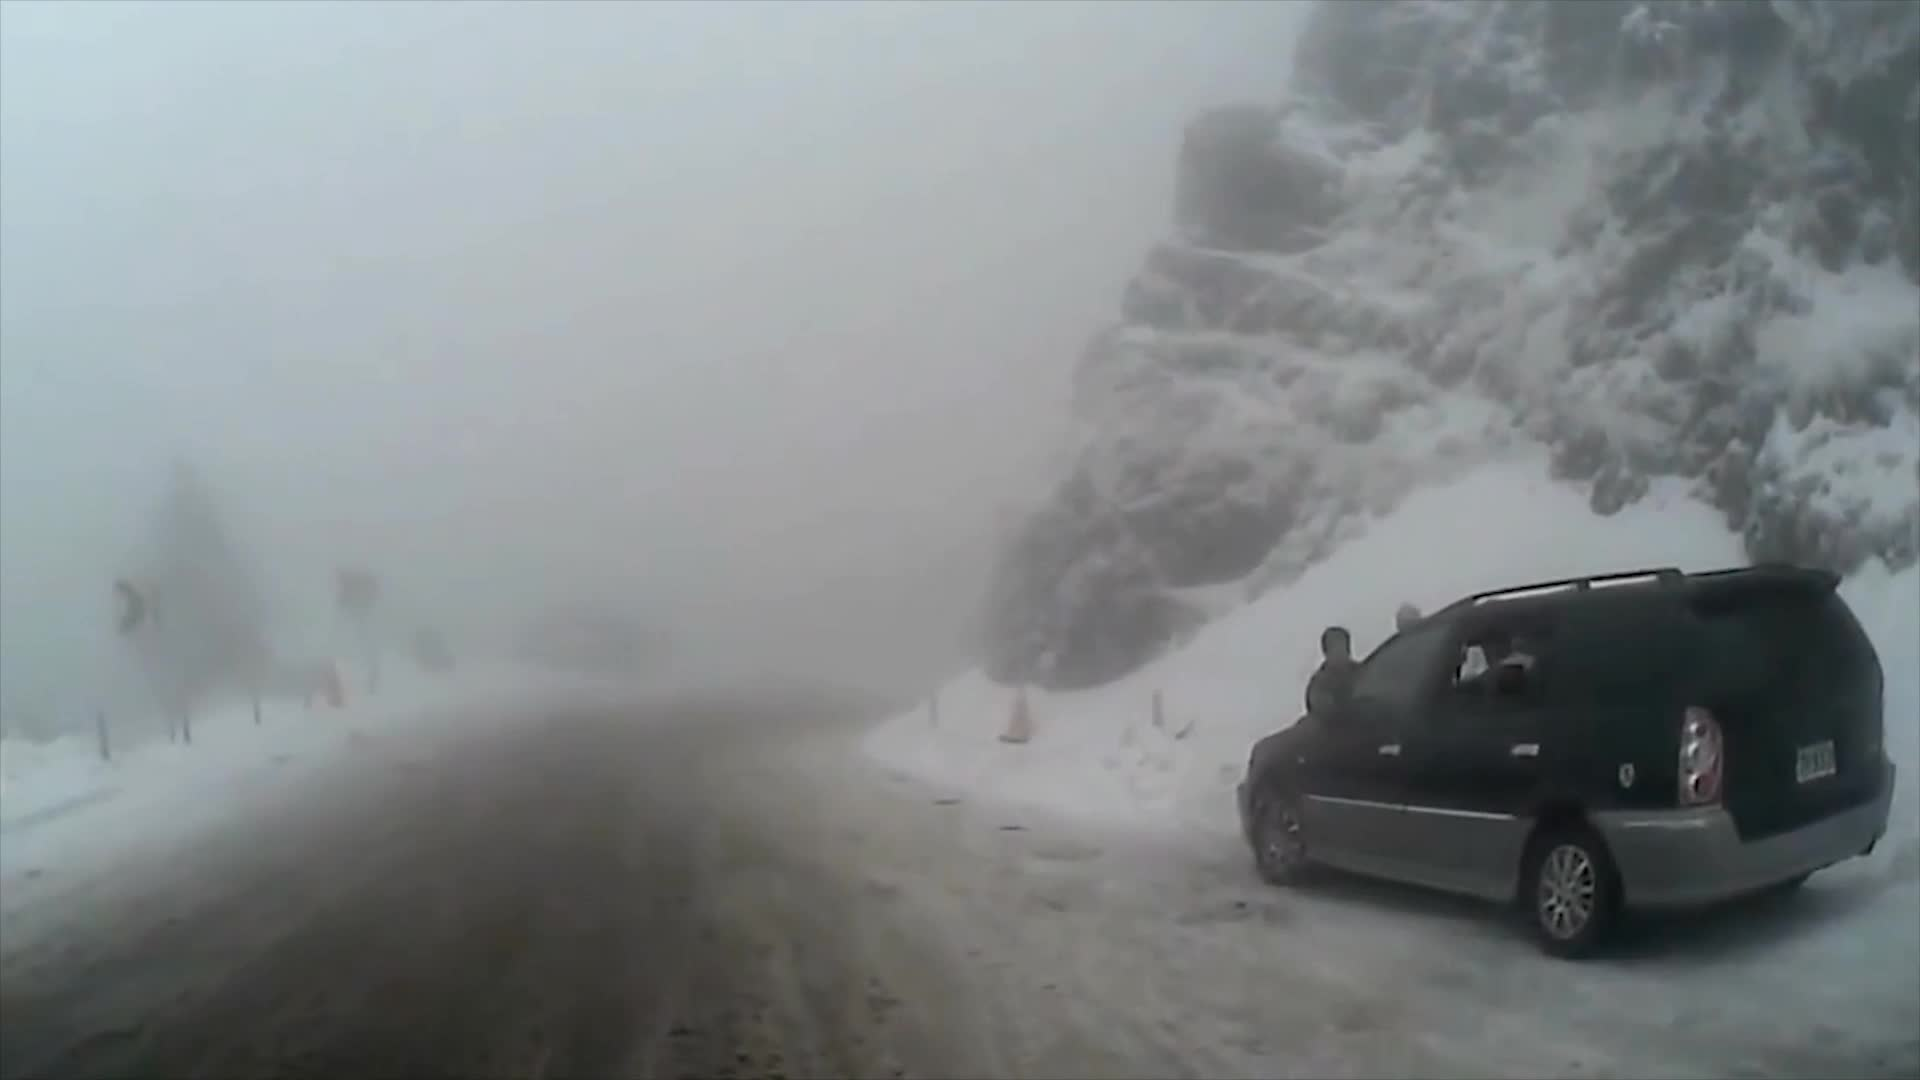pedestrian: (1300, 621, 1366, 847)
vehicle: (1238, 559, 1906, 958)
